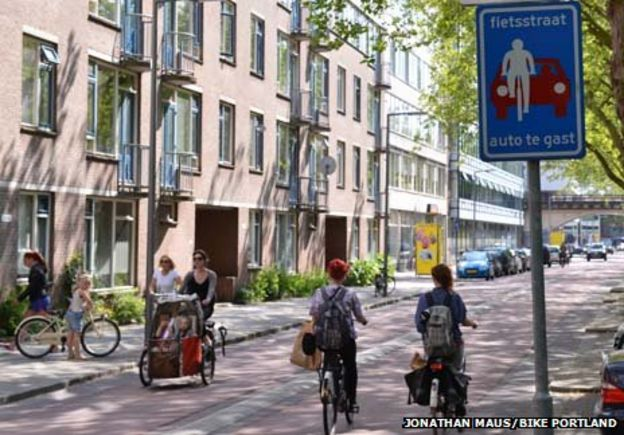cyclist_back: (294, 255, 367, 430)
cyclist_side: (18, 270, 125, 358)
